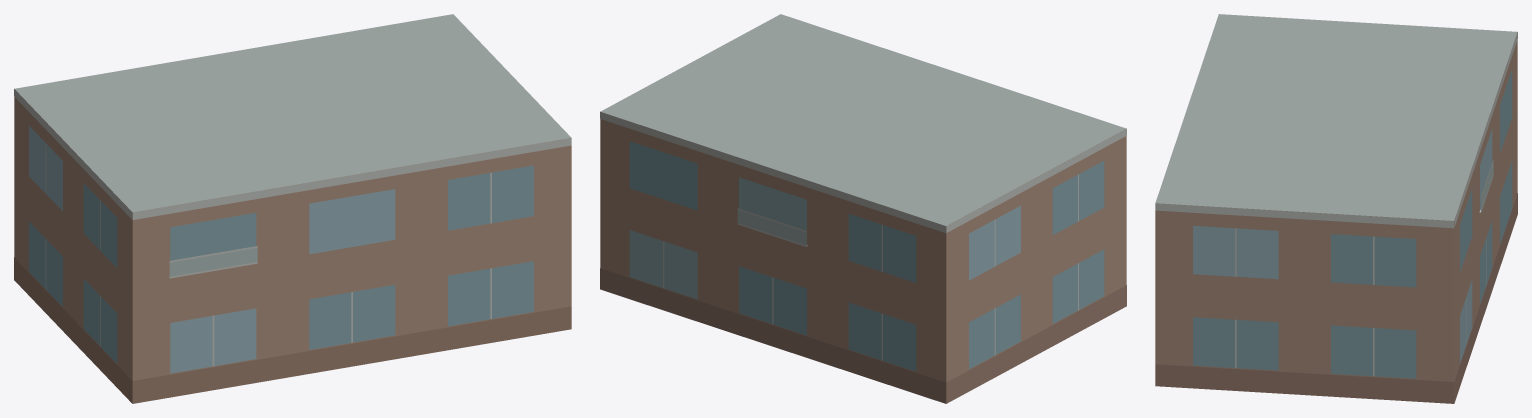
The model's file is survey-upis-33021093.glb.
The picture shows the model from 3 angles, left to right: view 1: azimuth 30°, elevation 25°; view 2: azimuth 150°, elevation 25°; view 3: azimuth 270°, elevation 25°; orthographic projection. The views are drawn at different scales.
Visible parts, largest first — view 1: survey-upis-33021093.tmp; view 2: survey-upis-33021093.tmp; view 3: survey-upis-33021093.tmp.
Part boxes in pixels (<box>): survey-upis-33021093.tmp: <box>14,14,571,403</box>; survey-upis-33021093.tmp: <box>600,14,1126,403</box>; survey-upis-33021093.tmp: <box>1155,14,1517,403</box>.
Size of the model in its own units: 14.82 by 6.1 by 10.97.
